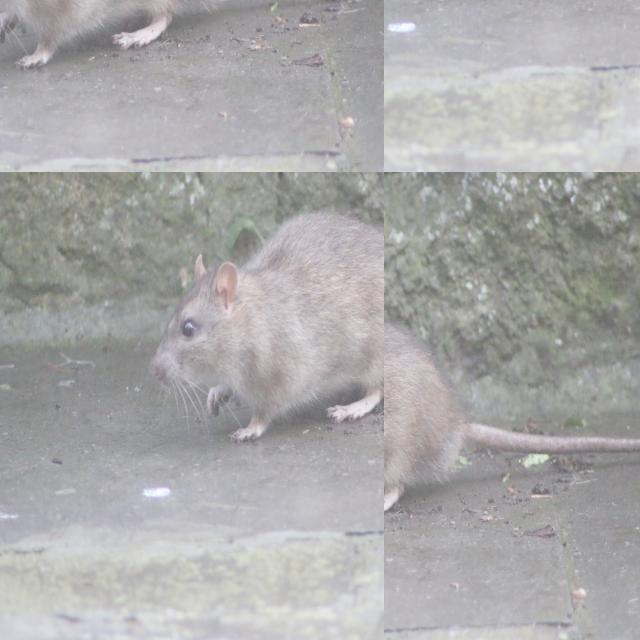rat: (384, 311, 463, 544), (10, 172, 106, 248)
